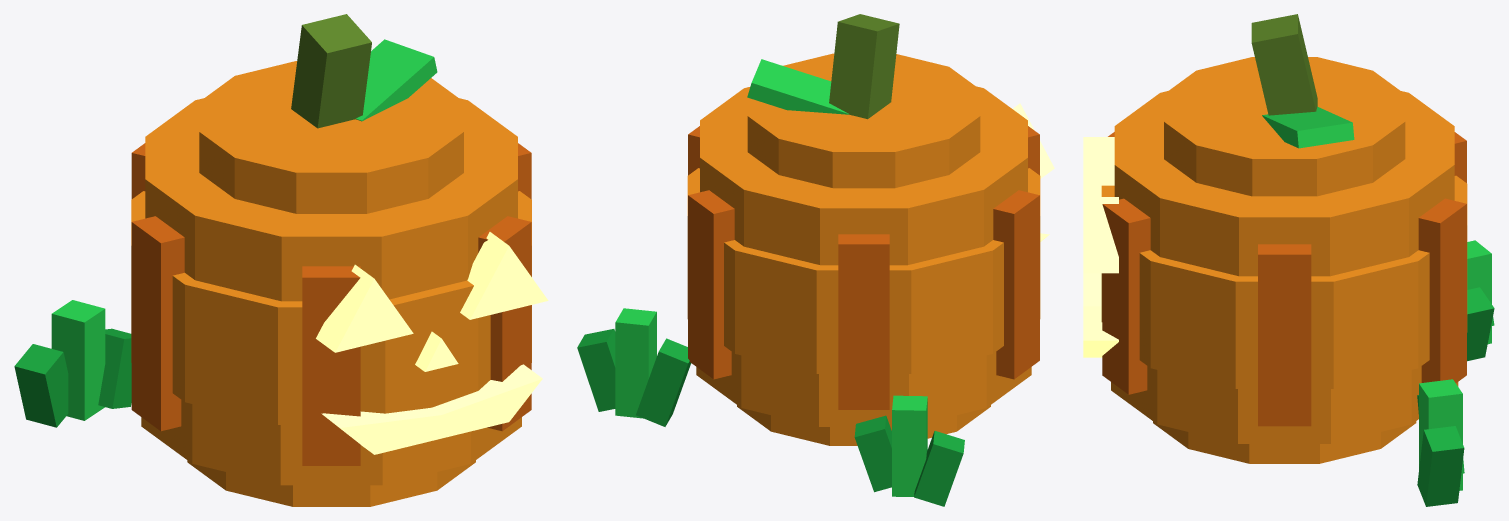
Rendered from JackOLantern.fbx.
3 renders of one model, left to right at view 1: azimuth 30°, elevation 25°; view 2: azimuth 150°, elevation 25°; view 3: azimuth 270°, elevation 25°, orthographic. The views are drawn at different scales.
Visible parts, largest first — view 1: Pumpkin.004, PumpkinDark.001, LanternGlow.001, Grass.017, Stem.001, GrassDark.017; view 2: Pumpkin.004, PumpkinDark.001, Grass.017, GrassDark.017, Stem.001; view 3: Pumpkin.004, PumpkinDark.001, Grass.017, LanternGlow.001, Stem.001, GrassDark.017.
Part boxes in pixels (bbox=[...]): Pumpkin.004: bbox=[131, 61, 531, 506]; PumpkinDark.001: bbox=[131, 143, 531, 465]; LanternGlow.001: bbox=[316, 232, 548, 454]; Grass.017: bbox=[51, 39, 437, 420]; Stem.001: bbox=[291, 14, 371, 128]; GrassDark.017: bbox=[14, 328, 131, 427]; Pumpkin.004: bbox=[687, 53, 1040, 445]; PumpkinDark.001: bbox=[688, 126, 1039, 409]; Grass.017: bbox=[615, 59, 927, 496]; GrassDark.017: bbox=[577, 329, 964, 506]; Stem.001: bbox=[829, 14, 899, 119]; Pumpkin.004: bbox=[1101, 57, 1467, 463]; PumpkinDark.001: bbox=[1102, 132, 1466, 426]; Grass.017: bbox=[1262, 106, 1491, 490]; LanternGlow.001: bbox=[1083, 137, 1118, 357]; Stem.001: bbox=[1251, 14, 1317, 115]; GrassDark.017: bbox=[1417, 287, 1494, 506].
Bounding box in the file's own units: 4.02 × 3.61 × 3.47.
